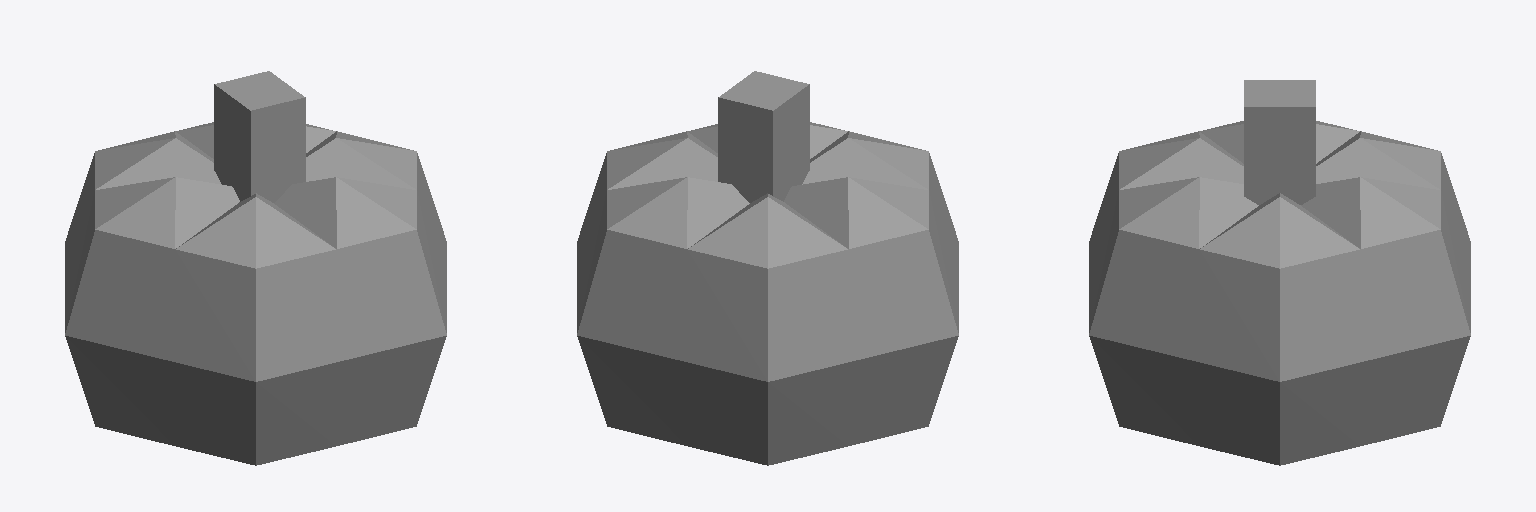
The model's file is pumpkin_02_01_a.obj.
3 renders of one model, left to right at view 1: azimuth 30°, elevation 25°; view 2: azimuth 150°, elevation 25°; view 3: azimuth 270°, elevation 25°, orthographic.
Parts seen in each view (by area): view 1: pumpkin_02_01_a; view 2: pumpkin_02_01_a; view 3: pumpkin_02_01_a.
Boxes of the visible parts, x1=… form: pumpkin_02_01_a: x1=65, y1=71, x2=446, y2=465; pumpkin_02_01_a: x1=577, y1=71, x2=958, y2=465; pumpkin_02_01_a: x1=1089, y1=80, x2=1470, y2=465.
Bounding box in the file's own units: 1.01 × 0.83 × 0.8751.